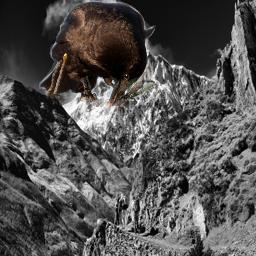Crow: (38, 0, 158, 107)
Cuckoo: (115, 79, 155, 100)
